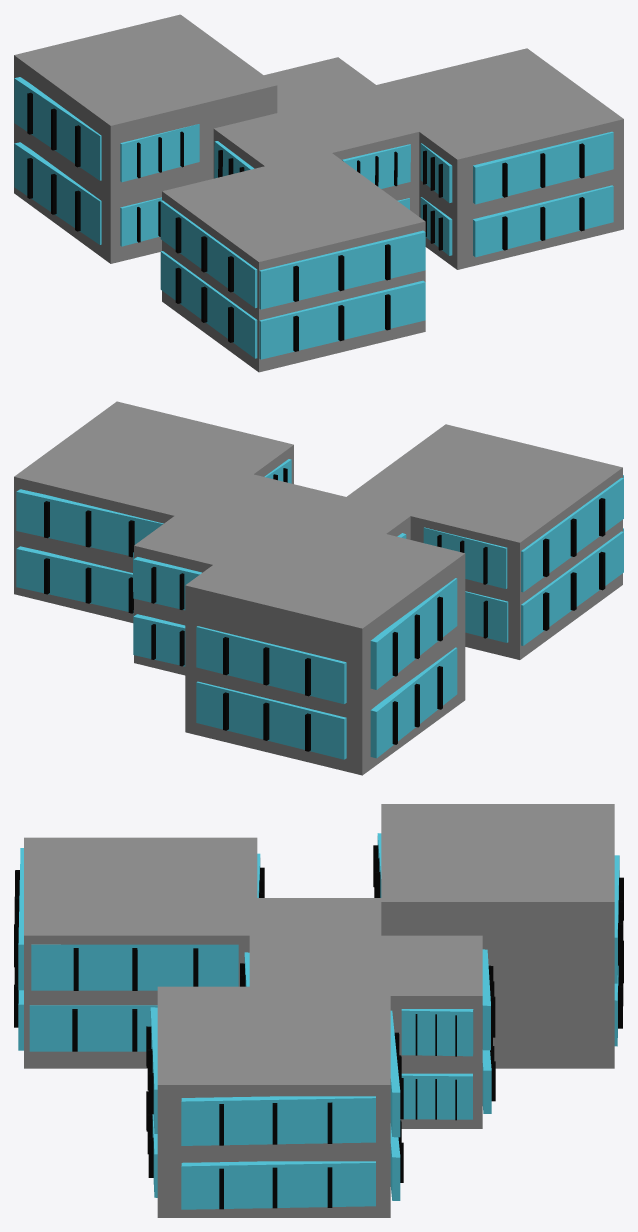
3 renders of one model, top to bottom at view 1: azimuth 30°, elevation 25°; view 2: azimuth 150°, elevation 25°; view 3: azimuth 270°, elevation 25°, orthographic. The views are drawn at different scales.
Parts seen in each view (by area): view 1: Box004; view 2: Box004; view 3: Box004.
Boxes of the visible parts, x1=… form: Box004: x1=14, y1=14, x2=623, y2=372; Box004: x1=14, y1=401, x2=623, y2=775; Box004: x1=14, y1=804, x2=623, y2=1217.
Size of the model in its own units: 34.81 by 10.43 by 34.62.
